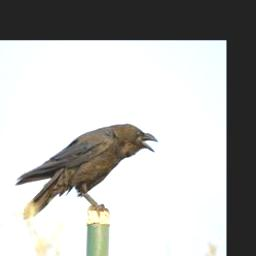Crow: (12, 118, 161, 220)
